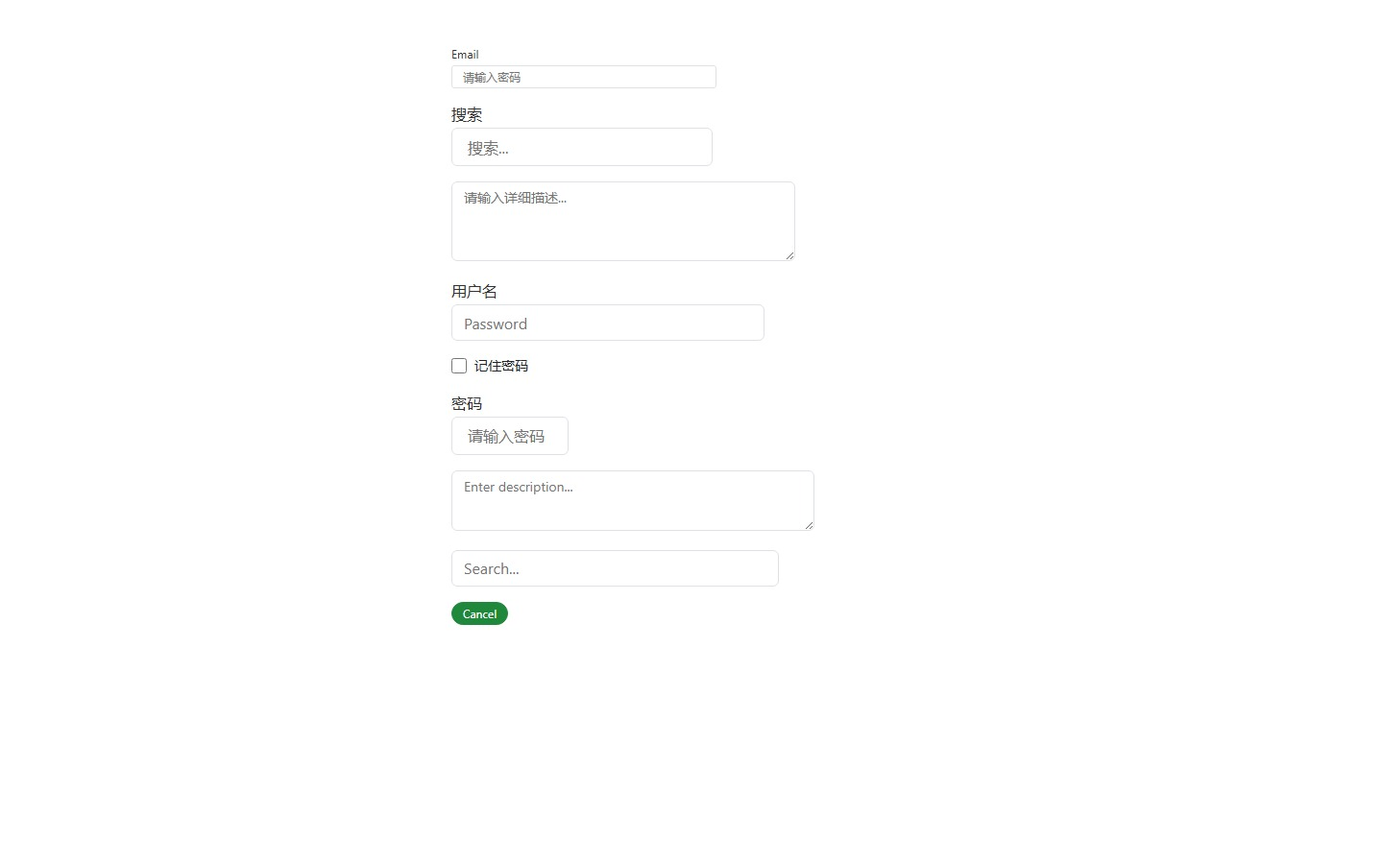button: (451, 601, 508, 624)
checkbox: (451, 358, 467, 373)
icon: (474, 356, 528, 374)
input: (451, 550, 779, 586), (451, 304, 764, 341), (451, 128, 713, 166), (451, 65, 716, 88), (451, 416, 569, 455)
radio: (451, 356, 528, 374)
textarea: (451, 181, 795, 261), (451, 470, 814, 530)
